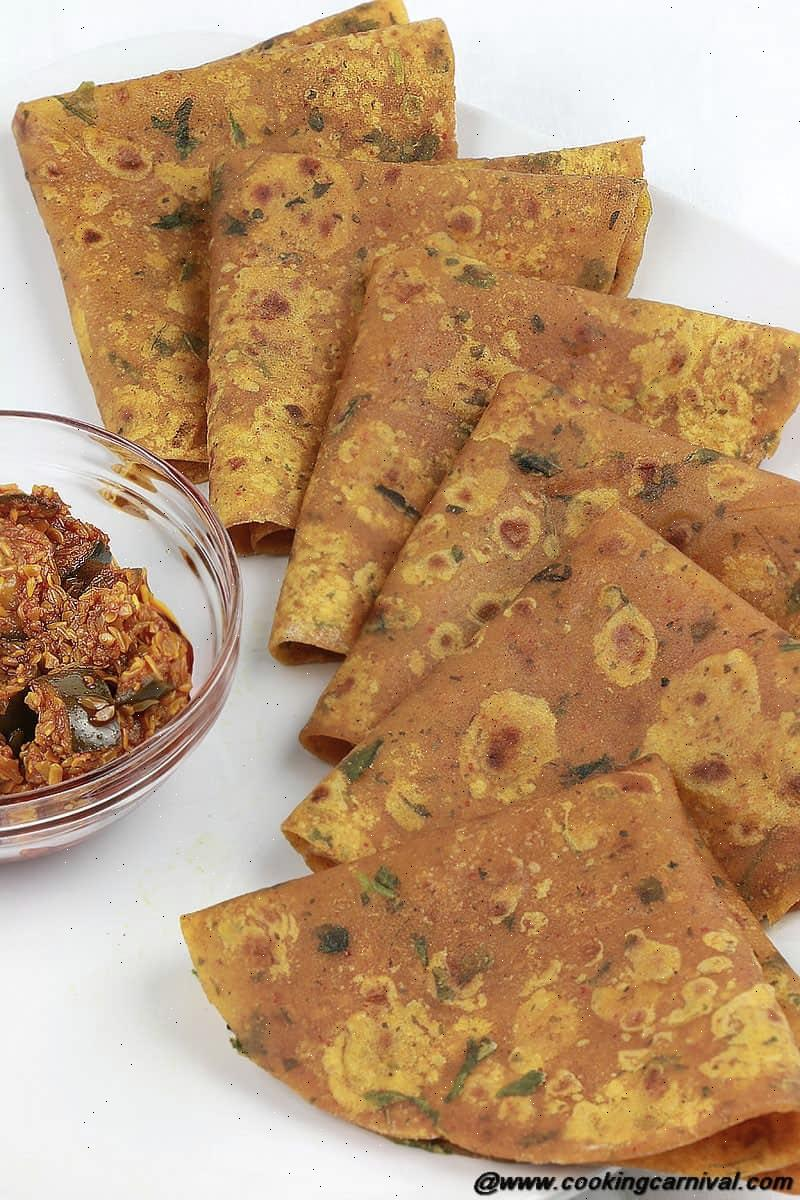thepla: (54, 31, 800, 556), (248, 601, 800, 1167)
